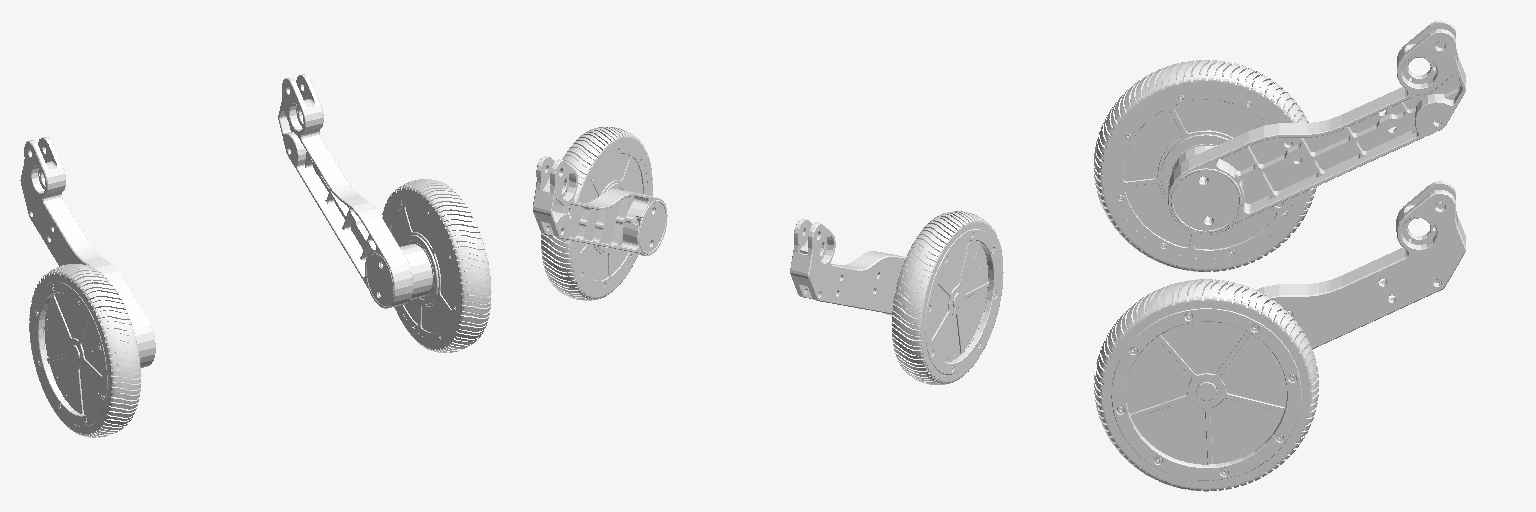
The robot description file, URDF, robot "diablo_plus":
<?xml version="1.0" encoding="utf-8"?>
<!-- This URDF was automatically created by SolidWorks to URDF Exporter! Originally created by Stephen Brawner (brawner@gmail.com) 
     Commit Version: 1.6.0-4-g7f85cfe  Build Version: 1.6.7995.38578
     For more information, please see http://wiki.ros.org/sw_urdf_exporter -->
<robot
  name="diablo_plus">
  <link
    name="base_link">
    <inertial>
      <origin
        xyz="0.000188101631071298 -0.00241647417177475 0.13474450839536"
        rpy="0 0 0" />
      <mass
        value="11.4726" />
      <inertia
        ixx="0.8371974"
        ixy="-0.06254957"
        ixz="-0.01618499"
        iyy="0.8708397"
        iyz="0.003006719"
        izz="0.3425067" />
    </inertial>
    <visual>
      <origin
        xyz="0 0 0"
        rpy="0 0 0" />
      <geometry>
        <mesh
          filename="../meshes/base_link.STL" />
      </geometry>
      <material
        name="">
        <color
          rgba="1 1 1 1" />
      </material>
    </visual>
    <collision>
      <origin
        xyz="0 0 0"
        rpy="0 0 0" />
      <geometry>
        <mesh
          filename="../meshes/base_link.STL" />
      </geometry>
    </collision>
  </link>
  <link
    name="left_hip">
    <inertial>
      <origin
        xyz="-0.0337009351364807 0.0839841381362737 -0.0252426736599563"
        rpy="0 0 0" />
      <mass
        value="2.0" />
      <inertia
        ixx="0.01137421"
        ixy="0.00070511460"
        ixz="0.00124554"
        iyy="0.0082006541"
        iyz="0.0029798900"
        izz="0.0060506903" />
    </inertial>
    <visual>
      <origin
        xyz="0 0 0"
        rpy="0 0 0" />
      <geometry>
        <mesh
          filename="../meshes/left_hip.STL" />
      </geometry>
      <material
        name="">
        <color
          rgba="1 1 1 1" />
      </material>
    </visual>
    <collision>
      <origin
        xyz="0 0 0"
        rpy="0 0 0" />
      <geometry>
        <mesh
          filename="../meshes/left_hip.STL" />
      </geometry>
    </collision>
  </link>
  <joint
    name="left_hip_joint"
    type="revolute">
    <origin
      xyz="0.0478 0 0.054997"
      rpy="0 0 -1.5708" />
    <parent
      link="base_link" />
    <child
      link="left_hip" />
    <axis
      xyz="0 1 0" />
    <limit
      lower="-3.14"
      upper="3.14"
      effort="100"
      velocity="10" />
  </joint>
  <link
    name="left_knee">
    <inertial>
      <origin
        xyz="0.0876432954116847 -0.00538339775047969 -0.0705875998677991"
        rpy="0 0 0" />
      <mass
        value="2.0" />
      <inertia
        ixx="0.0044665319"
        ixy="1.2345077E-05"
        ixz="-0.00023975799"
        iyy="0.0046256777"
        iyz="-0.00022848392"
        izz="0.0002702575" />
    </inertial>
    <visual>
      <origin
        xyz="0 0 0"
        rpy="0 0 0" />
      <geometry>
        <mesh
          filename="../meshes/left_knee.STL" />
      </geometry>
      <material
        name="">
        <color
          rgba="1 1 1 1" />
      </material>
    </visual>
    <collision>
      <origin
        xyz="0 0 0"
        rpy="0 0 0" />
      <geometry>
        <mesh
          filename="../meshes/left_knee.STL" />
      </geometry>
    </collision>
  </link>
  <joint
    name="left_knee_joint"
    type="revolute">
    <origin
      xyz="-0.15051 0.11148 -0.1317"
      rpy="0 0 0" />
    <parent
      link="left_hip" />
    <child
      link="left_knee" />
    <axis
      xyz="0 1 0" />
    <limit
      lower="-3.14"
      upper="3.14"
      effort="100"
      velocity="10" />
  </joint>
  <link
    name="left_wheel">
    <inertial>
      <origin
        xyz="0.000498221004585771 0.0219632112478564 -0.000371886892005541"
        rpy="0 0 0" />
      <mass
        value="1.63" />
      <inertia
        ixx="0.0038687294"
        ixy="3.4674606E-07"
        ixz="-6.1772612E-09"
        iyy="0.0073579312"
        iyz="-4.5317897E-09"
        izz="0.0038687049" />
    </inertial>
    <visual>
      <origin
        xyz="0 0 0"
        rpy="0 0 0" />
      <geometry>
        <mesh
          filename="../meshes/left_wheel.STL" />
      </geometry>
      <material
        name="">
        <color
          rgba="1 1 1 1" />
      </material>
    </visual>
    <collision>
      <origin
        xyz="0 0 0"
        rpy="0 0 0" />
      <geometry>
        <mesh
          filename="../meshes/left_wheel.STL" />
      </geometry>
    </collision>
  </link>
  <joint
    name="left_wheel_joint"
    type="revolute">
    <origin
      xyz="0.16561 0.01866 -0.11101"
      rpy="0 0 0" />
    <parent
      link="left_knee" />
    <child
      link="left_wheel" />
    <axis
      xyz="0 1 0" />
    <limit
      lower="-3.14"
      upper="3.14"
      effort="20"
      velocity="30" />
  </joint>
  <link
    name="right_hip">
    <inertial>
      <origin
        xyz="-0.0336984975299611 -0.083848616176942 -0.0256462614531766"
        rpy="0 0 0" />
      <mass
        value="2.0" />
      <inertia
        ixx="0.01137421"
        ixy="0.00070511460"
        ixz="0.00124554"
        iyy="0.0082006541"
        iyz="0.0029798900"
        izz="0.0060506903" />
    </inertial>
    <visual>
      <origin
        xyz="0 0 0"
        rpy="0 0 0" />
      <geometry>
        <mesh
          filename="../meshes/right_hip.STL" />
      </geometry>
      <material
        name="">
        <color
          rgba="1 1 1 1" />
      </material>
    </visual>
    <collision>
      <origin
        xyz="0 0 0"
        rpy="0 0 0" />
      <geometry>
        <mesh
          filename="../meshes/right_hip.STL" />
      </geometry>
    </collision>
  </link>
  <joint
    name="right_hip_joint"
    type="revolute">
    <origin
      xyz="-0.0478 0 0.054997"
      rpy="0 0 -1.5708" />
    <parent
      link="base_link" />
    <child
      link="right_hip" />
    <axis
      xyz="0 1 0" />
    <limit
      lower="-3.14"
      upper="3.14"
      effort="100"
      velocity="10" />
  </joint>
  <link
    name="right_knee">
    <inertial>
      <origin
        xyz="0.0877515588984309 -0.00240649787444708 -0.0700675656000752"
        rpy="0 0 0" />
      <mass
        value="0.149174408983867" />
      <inertia
        ixx="0.0044665319"
        ixy="1.2345077E-05"
        ixz="-0.00023975799"
        iyy="0.0046256777"
        iyz="-0.00022848392"
        izz="0.0002702575" />
    </inertial>
    <visual>
      <origin
        xyz="0 0 0"
        rpy="0 0 0" />
      <geometry>
        <mesh
          filename="../meshes/right_knee.STL" />
      </geometry>
      <material
        name="">
        <color
          rgba="1 1 1 1" />
      </material>
    </visual>
    <collision>
      <origin
        xyz="0 0 0"
        rpy="0 0 0" />
      <geometry>
        <mesh
          filename="../meshes/right_knee.STL" />
      </geometry>
    </collision>
  </link>
  <joint
    name="right_knee_joint"
    type="revolute">
    <origin
      xyz="-0.15071 -0.10364 -0.13147"
      rpy="0 0 0" />
    <parent
      link="right_hip" />
    <child
      link="right_knee" />
    <axis
      xyz="0 1 0" />
    <limit
      lower="-3.14"
      upper="3.14"
      effort="100"
      velocity="10" />
  </joint>
  <link
    name="right_wheel">
    <inertial>
      <origin
        xyz="0.000578154608412845 -0.0304632112662762 -0.000437808276582741"
        rpy="0 0 0" />
      <mass
        value="1.63" />
      <inertia
        ixx="0.0038687294"
        ixy="3.4674606E-07"
        ixz="-6.1772612E-09"
        iyy="0.0073579312"
        iyz="-4.5317897E-09"
        izz="0.0038687049" />
    </inertial>
    <visual>
      <origin
        xyz="0 0 0"
        rpy="0 0 0" />
      <geometry>
        <mesh
          filename="../meshes/right_wheel.STL" />
      </geometry>
      <material
        name="">
        <color
          rgba="1 1 1 1" />
      </material>
    </visual>
    <collision>
      <origin
        xyz="0 0 0"
        rpy="0 0 0" />
      <geometry>
        <mesh
          filename="../meshes/right_wheel.STL" />
      </geometry>
    </collision>
  </link>
  <joint
    name="right_wheel_joint"
    type="revolute">
    <origin
      xyz="0.16601 -0.01796 -0.11022"
      rpy="0 0 0" />
    <parent
      link="right_knee" />
    <child
      link="right_wheel" />
    <axis
      xyz="0 1 0" />
    <limit
      lower="-3.14"
      upper="3.14"
      effort="20"
      velocity="30" />
  </joint>
</robot>

--- Render facts (derived) ---
3 views of the same robot in one strip: view 1: azimuth 30°, elevation 25°; view 2: azimuth 150°, elevation 25°; view 3: azimuth 270°, elevation 25° (orthographic).
Robot: diablo_plus — 7 links, 6 joints (6 revolute); root link base_link; default pose: all joints at 0.
Visible links, largest first — view 1: right_wheel, left_wheel, left_knee, right_knee; view 2: right_wheel, left_wheel, left_knee, right_knee; view 3: left_wheel, right_wheel, right_knee, left_knee.
Boxes of the visible links, x1,y1,x2,y2 form: right_wheel: (29, 264, 140, 437); left_wheel: (382, 179, 491, 352); left_knee: (278, 74, 431, 308); right_knee: (20, 137, 155, 367); right_wheel: (892, 211, 1003, 384); left_wheel: (541, 127, 652, 300); left_knee: (533, 156, 667, 255); right_knee: (790, 219, 905, 315); left_wheel: (1094, 279, 1318, 491); right_wheel: (1094, 60, 1316, 271); right_knee: (1168, 21, 1465, 234); left_knee: (1257, 181, 1465, 349).
Bounding box of the posed robot: 0.4384 × 0.2912 × 0.2346 m (x, y, z).
Meshes: 7 distinct files referenced, 4 mesh visuals loaded (4 binary STL); not drawn: 3 (reference not matched to a file when rendering).
